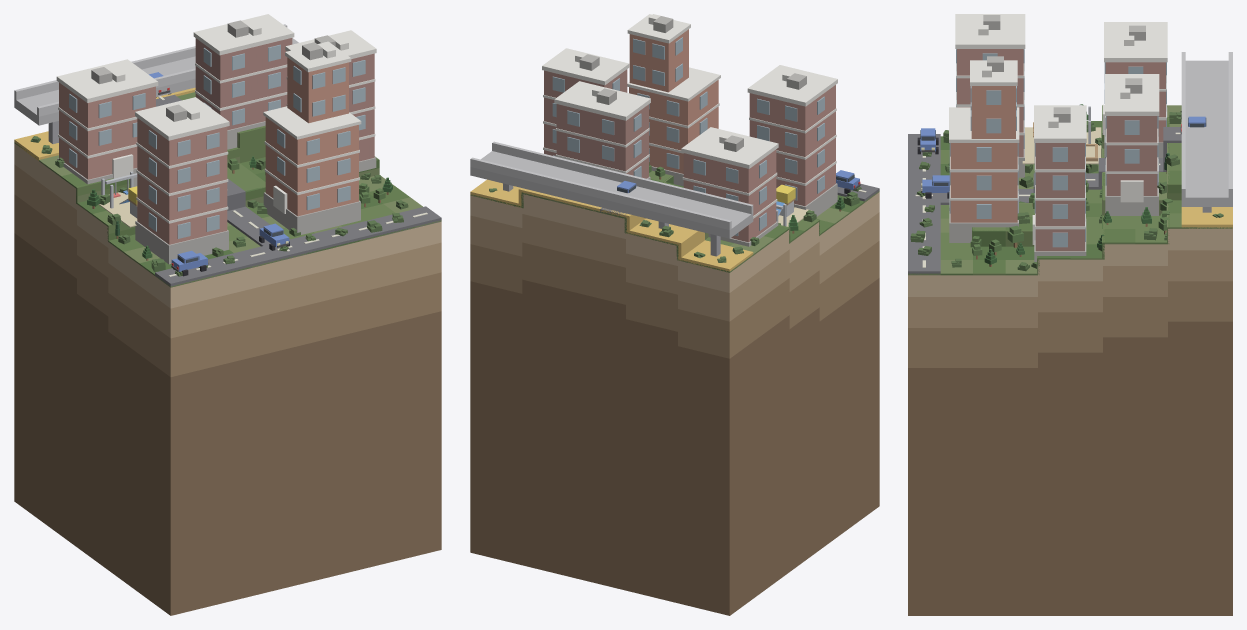
The model's file is block_6_engineered_20.glb.
3 views of the same model, side by side, from view 1: azimuth 30°, elevation 25°; view 2: azimuth 150°, elevation 25°; view 3: azimuth 270°, elevation 25° (orthographic). The views are drawn at different scales.
Parts seen in each view (by area): view 1: Patch_UpperLeft_b01_ES, Res_UL_04_ES, Res_UL_01_ES, Res_UL_00_ES, Res_UL_02_ES, Green_UpperLeft_j4_b01_ES, Roads_UpperLeft_b01_ES, Bridge_UpperLeft_b01_ES, Res_UL_03_ES, Playground_UpperLeft_ES, Paver_UpperLeft_b01_ES, ULCar_005_ES; view 2: Patch_UpperLeft_b01_ES, Bridge_UpperLeft_b01_ES, Res_UL_01_ES, Res_UL_04_ES, Res_UL_02_ES, Res_UL_00_ES, Paver_UpperLeft_b01_ES, Res_UL_03_ES, Green_UpperLeft_j4_b01_ES, Playground_UpperLeft_ES; view 3: Patch_UpperLeft_b01_ES, Res_UL_04_ES, Green_UpperLeft_j4_b01_ES, Res_UL_03_ES, Res_UL_02_ES, Bridge_UpperLeft_b01_ES, Res_UL_01_ES, Roads_UpperLeft_b01_ES, Res_UL_00_ES, Paver_UpperLeft_b01_ES, Playground_UpperLeft_ES, ULCar_022_ES (+1 smaller).
Part boxes in pixels (x1=…): Patch_UpperLeft_b01_ES: x1=14, y1=143, x2=441, y2=615; Res_UL_04_ES: x1=263, y1=41, x2=361, y2=234; Res_UL_01_ES: x1=135, y1=97, x2=229, y2=264; Res_UL_00_ES: x1=56, y1=59, x2=158, y2=186; Res_UL_02_ES: x1=193, y1=14, x2=294, y2=149; Green_UpperLeft_j4_b01_ES: x1=14, y1=92, x2=441, y2=287; Roads_UpperLeft_b01_ES: x1=155, y1=94, x2=441, y2=286; Bridge_UpperLeft_b01_ES: x1=14, y1=24, x2=298, y2=143; Res_UL_03_ES: x1=285, y1=30, x2=376, y2=171; Playground_UpperLeft_ES: x1=98, y1=171, x2=137, y2=227; Paver_UpperLeft_b01_ES: x1=14, y1=87, x2=195, y2=160; ULCar_005_ES: x1=171, y1=250, x2=208, y2=276; Patch_UpperLeft_b01_ES: x1=470, y1=192, x2=879, y2=615; Bridge_UpperLeft_b01_ES: x1=470, y1=141, x2=753, y2=256; Res_UL_01_ES: x1=747, y1=65, x2=837, y2=216; Res_UL_04_ES: x1=627, y1=14, x2=720, y2=186; Res_UL_02_ES: x1=554, y1=81, x2=650, y2=179; Res_UL_00_ES: x1=681, y1=127, x2=778, y2=246; Paver_UpperLeft_b01_ES: x1=470, y1=179, x2=753, y2=272; Res_UL_03_ES: x1=542, y1=48, x2=629, y2=156; Green_UpperLeft_j4_b01_ES: x1=470, y1=170, x2=879, y2=272; Playground_UpperLeft_ES: x1=776, y1=184, x2=811, y2=226; Patch_UpperLeft_b01_ES: x1=908, y1=228, x2=1232, y2=615; Res_UL_04_ES: x1=949, y1=56, x2=1019, y2=242; Green_UpperLeft_j4_b01_ES: x1=908, y1=105, x2=1232, y2=275; Res_UL_03_ES: x1=1032, y1=105, x2=1086, y2=261; Res_UL_02_ES: x1=1105, y1=74, x2=1159, y2=215; Bridge_UpperLeft_b01_ES: x1=1181, y1=52, x2=1232, y2=212; Res_UL_01_ES: x1=955, y1=14, x2=1025, y2=177; Roads_UpperLeft_b01_ES: x1=908, y1=127, x2=1181, y2=275; Res_UL_00_ES: x1=1102, y1=22, x2=1167, y2=157; Paver_UpperLeft_b01_ES: x1=1181, y1=207, x2=1232, y2=228; Playground_UpperLeft_ES: x1=1022, y1=104, x2=1101, y2=164; ULCar_022_ES: x1=921, y1=175, x2=949, y2=198.
Size of the model in its own units: 9.5 by 16.54 by 9.5.
